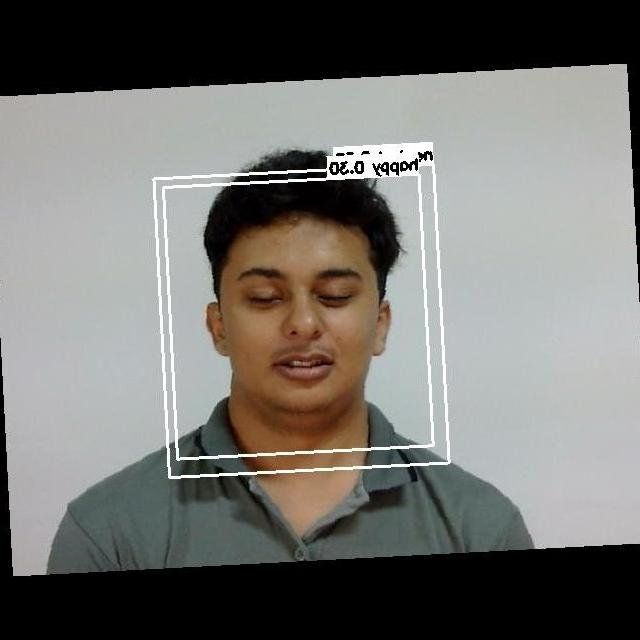Fear: (202, 235, 395, 412)
